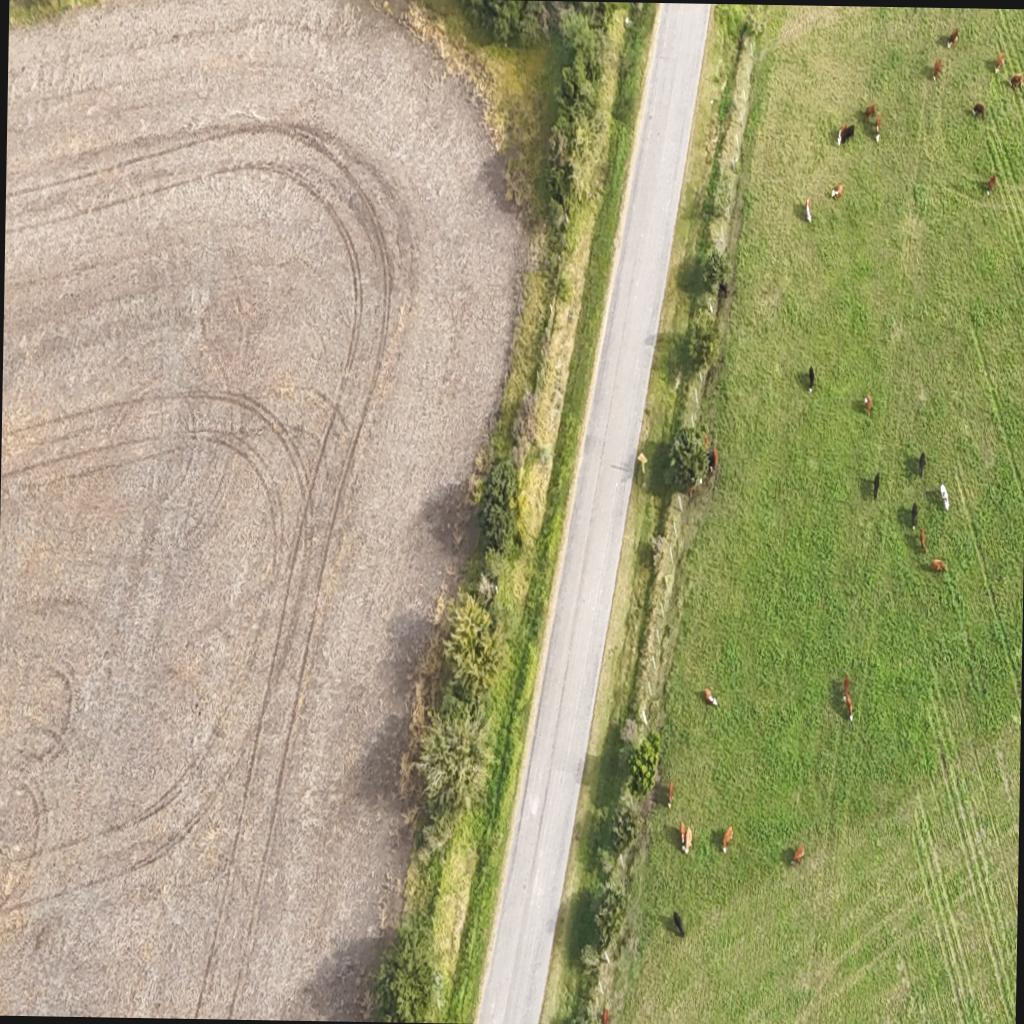cow: (672, 910, 686, 936), (720, 826, 732, 856), (938, 480, 950, 510), (838, 124, 854, 146), (684, 821, 694, 855), (677, 817, 687, 850), (829, 178, 843, 200), (708, 444, 718, 474), (994, 50, 1006, 74), (872, 116, 881, 148), (706, 688, 720, 708), (1009, 72, 1024, 90), (947, 26, 959, 48), (792, 844, 804, 866), (972, 100, 985, 120), (666, 779, 674, 809), (910, 502, 918, 532), (842, 671, 851, 697), (918, 450, 926, 478), (986, 174, 996, 196), (932, 558, 946, 573), (846, 698, 854, 724), (804, 197, 812, 223), (918, 527, 926, 553), (873, 472, 880, 500), (864, 392, 872, 416), (934, 58, 942, 82), (864, 103, 876, 119), (808, 365, 815, 389)
